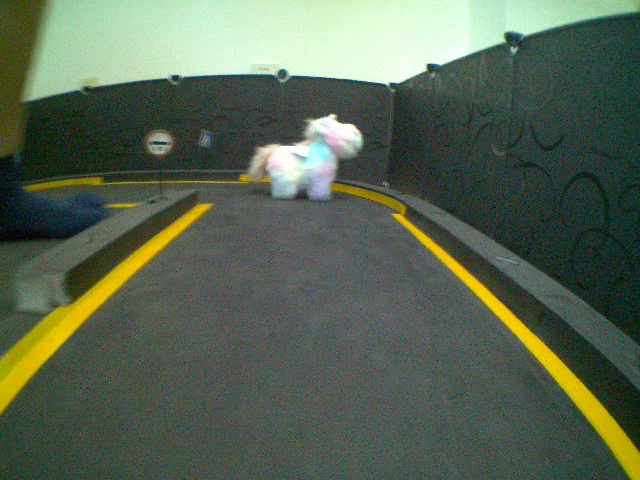unicorn: (249, 110, 362, 203)
